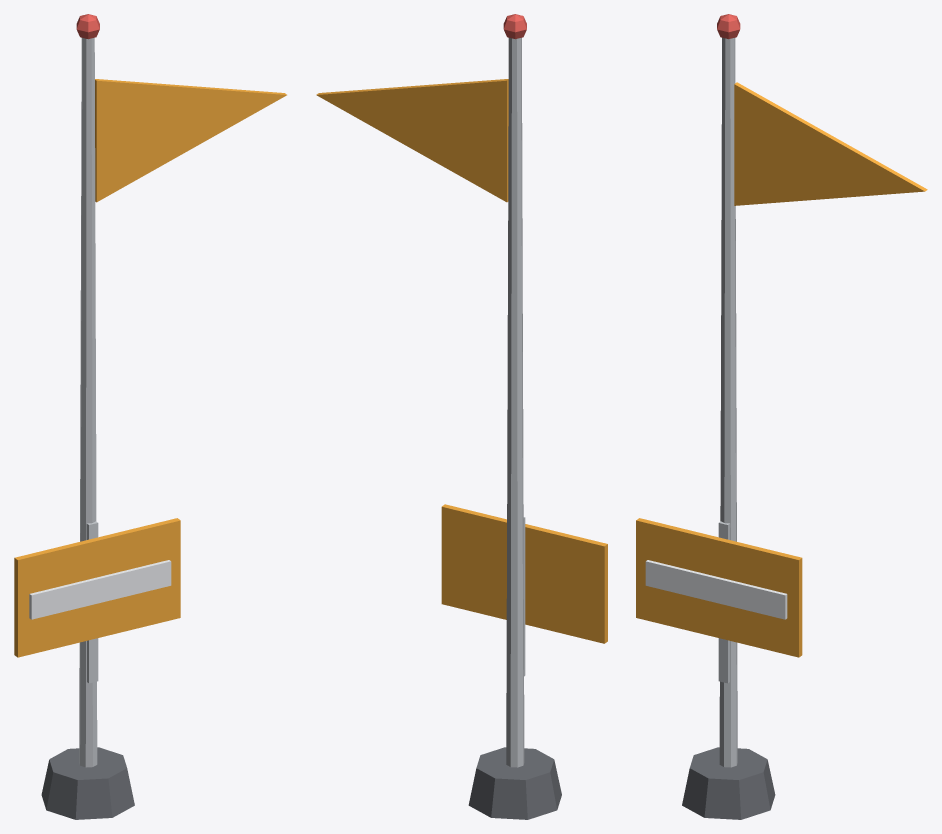
File: flagpost.glb
The picture shows the model from 3 angles, left to right: view 1: azimuth 30°, elevation 25°; view 2: azimuth 150°, elevation 25°; view 3: azimuth 330°, elevation 25°; orthographic projection.
Visible parts, largest first — view 1: ski-school-flag-post; view 2: ski-school-flag-post; view 3: ski-school-flag-post.
Part boxes in pixels (x1,y1,x2,y2): ski-school-flag-post: [14, 14, 286, 819]; ski-school-flag-post: [316, 14, 607, 819]; ski-school-flag-post: [636, 14, 927, 819].
Bounding box in the file's own units: 2.4 × 6.45 × 0.72.
